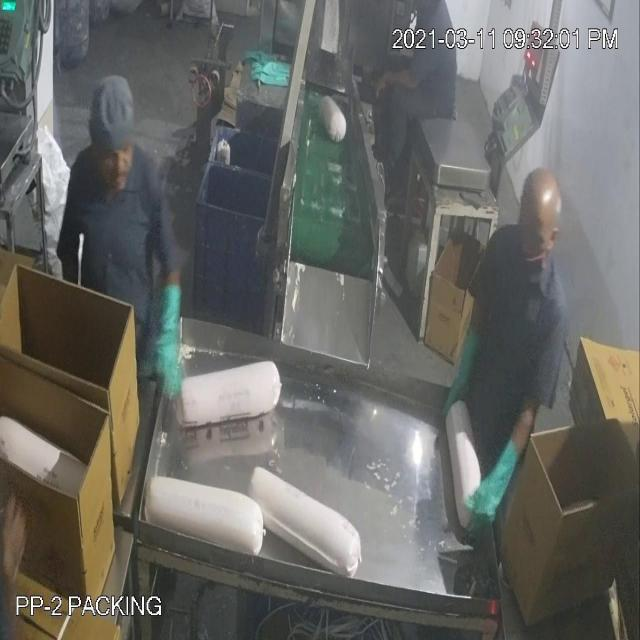Gloves: (47, 62, 490, 482)
